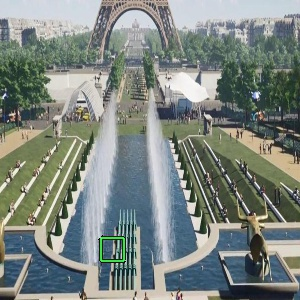square: (98, 236, 127, 262)
